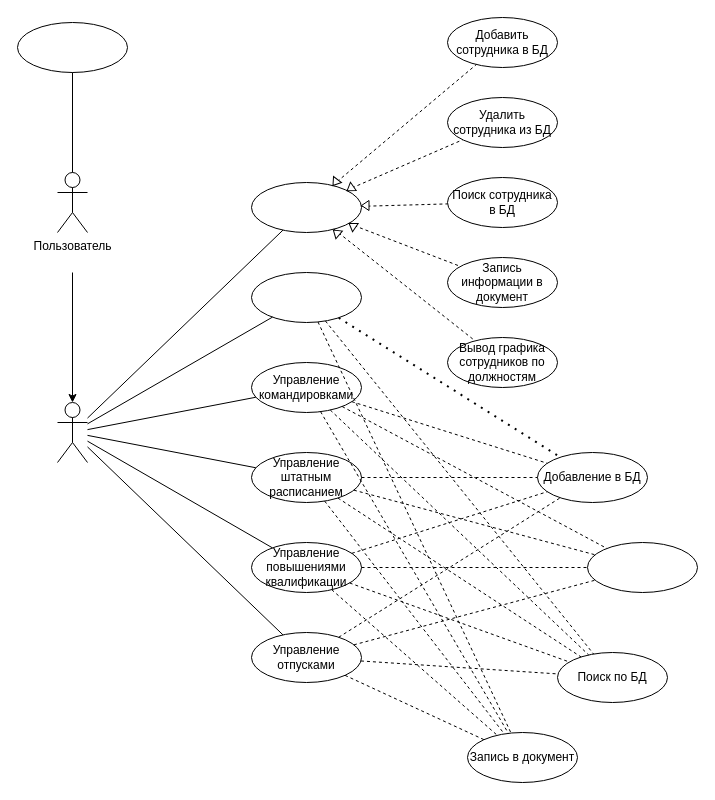
Image size: 715x800. Some labels were removed from this diagram. Each missing label, with the centre of its shape:
Авторизоваться: point (72, 47)
Сотрудник отдела кадров: point (72, 432)
Удаление из БД: point (642, 567)
Управление поощрениями: point (306, 297)
Управление сотрудниками: point (306, 207)
